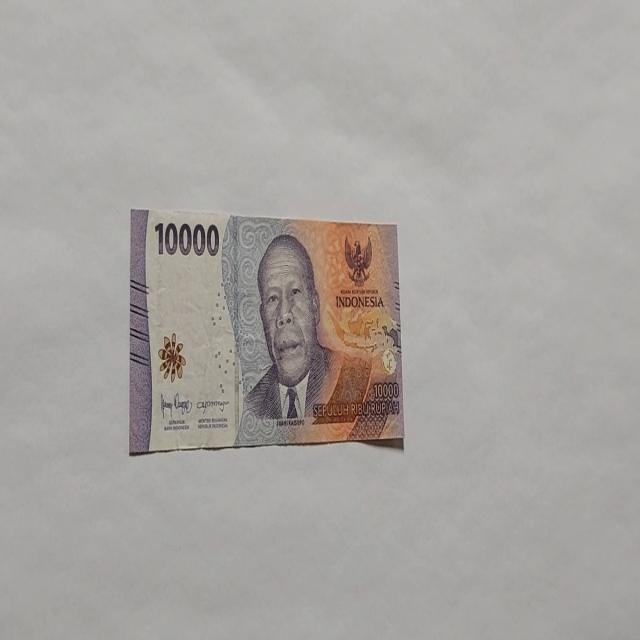sepuluh ribu rupiah: (128, 206, 404, 456), (232, 232, 374, 444)
